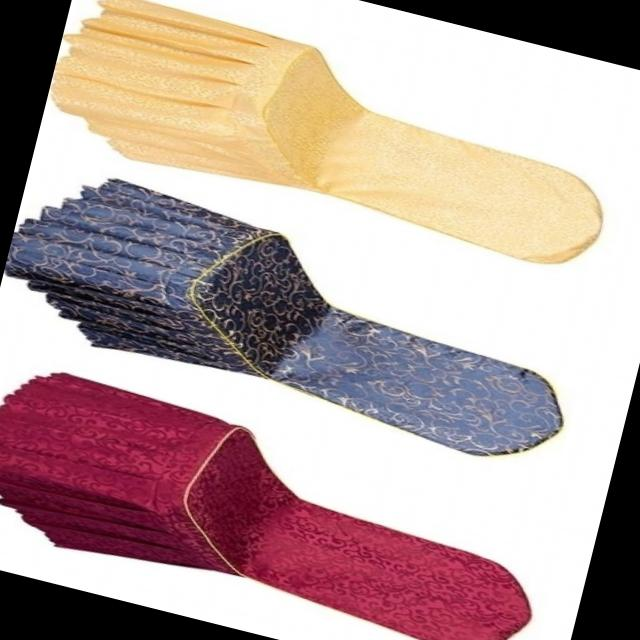Chair: (0, 156, 618, 482), (34, 0, 638, 283), (0, 345, 570, 640)
